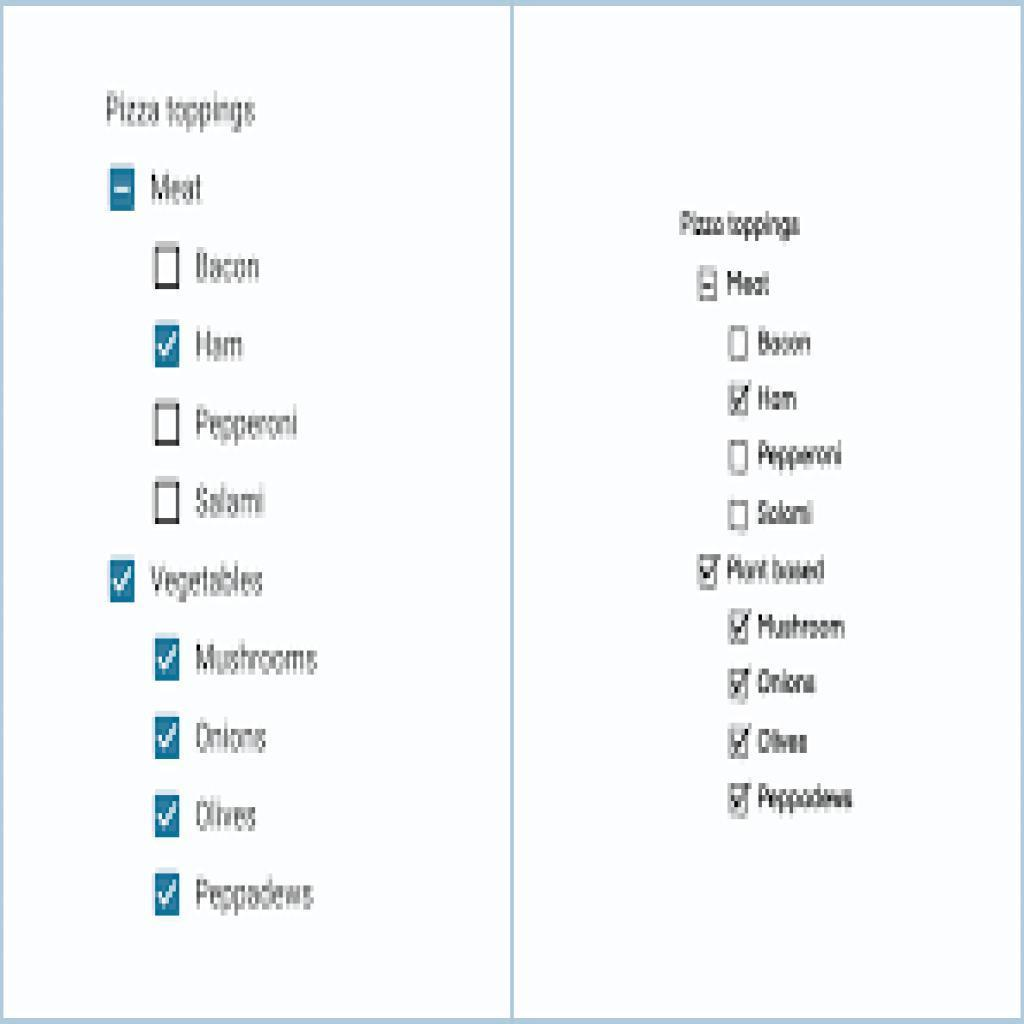checkbox: (146, 317, 190, 377), (148, 236, 190, 298), (147, 471, 186, 529), (150, 397, 190, 451), (152, 710, 187, 768), (152, 866, 188, 920), (107, 560, 144, 610), (151, 787, 184, 839), (152, 633, 183, 685), (726, 378, 755, 419), (727, 497, 753, 539), (696, 550, 721, 593), (727, 608, 752, 650), (726, 665, 752, 705), (726, 781, 752, 820), (726, 321, 750, 363), (727, 721, 752, 761), (726, 436, 750, 477)
